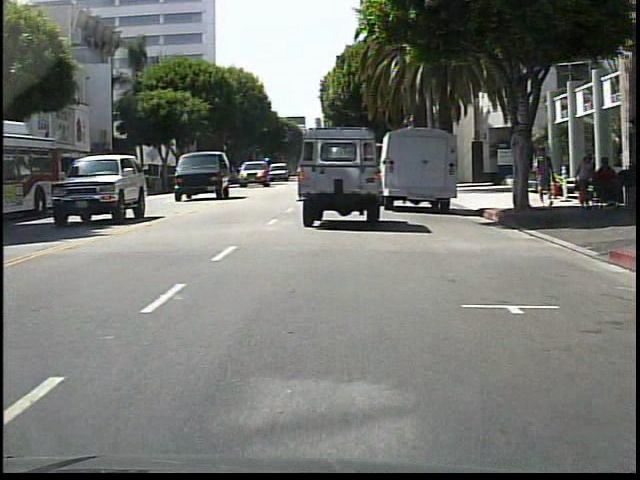person: (536, 144, 558, 208), (575, 150, 597, 208)
